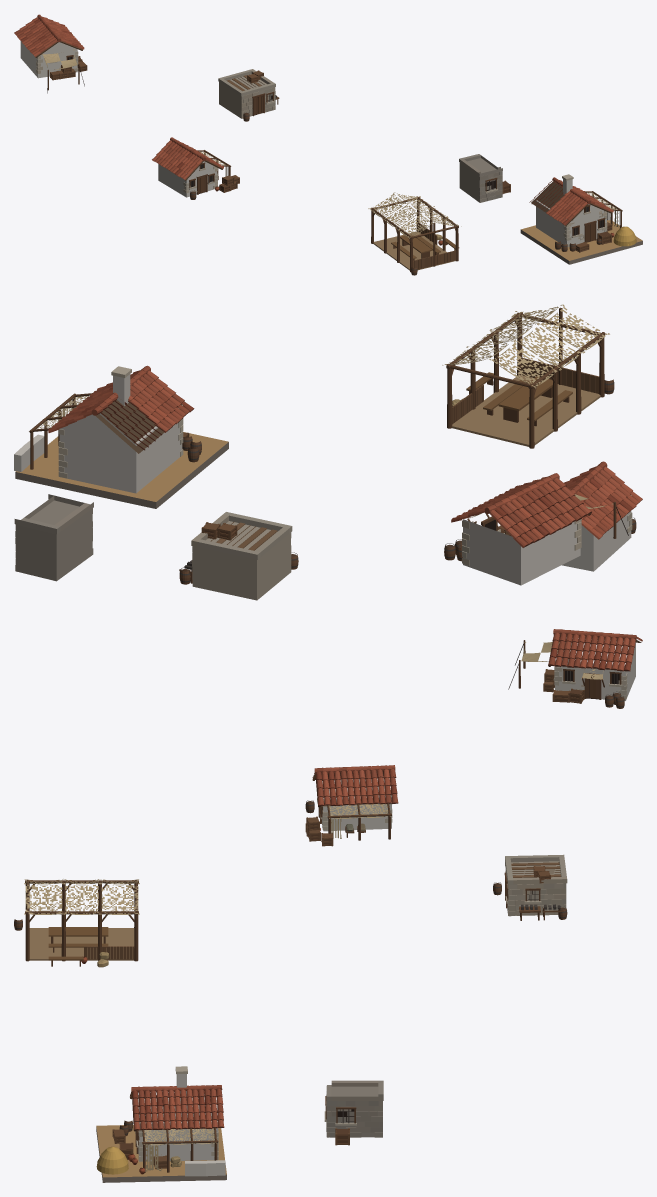
The model's file is buildings.glb.
3 views of the same model, one above another, from view 1: azimuth 30°, elevation 25°; view 2: azimuth 150°, elevation 25°; view 3: azimuth 270°, elevation 25° (orthographic). The views are drawn at different scales.
Parts seen in each view (by area): view 1: farm, hero_hall, hq, barracks, armory, treasury; view 2: farm, hero_hall, hq, armory, treasury, barracks; view 3: farm, hero_hall, hq, barracks, armory, treasury.
Part boxes in pixels (<box>): farm: <box>520,174,642,264</box>; hero_hall: <box>368,192,461,275</box>; hq: <box>14,14,87,93</box>; barracks: <box>152,137,239,199</box>; armory: <box>218,69,279,121</box>; treasury: <box>459,154,510,202</box>; farm: <box>14,365,228,508</box>; hero_hall: <box>442,304,614,448</box>; hq: <box>444,473,628,585</box>; armory: <box>179,512,298,600</box>; treasury: <box>14,494,93,581</box>; barracks: <box>562,461,642,571</box>; farm: <box>96,1066,226,1182</box>; hero_hall: <box>14,879,139,967</box>; hq: <box>508,629,642,708</box>; barracks: <box>305,765,398,846</box>; armory: <box>493,854,567,920</box>; treasury: <box>324,1080,383,1145</box>.
Size of the model in its own units: 2060 by 839 by 1796.
